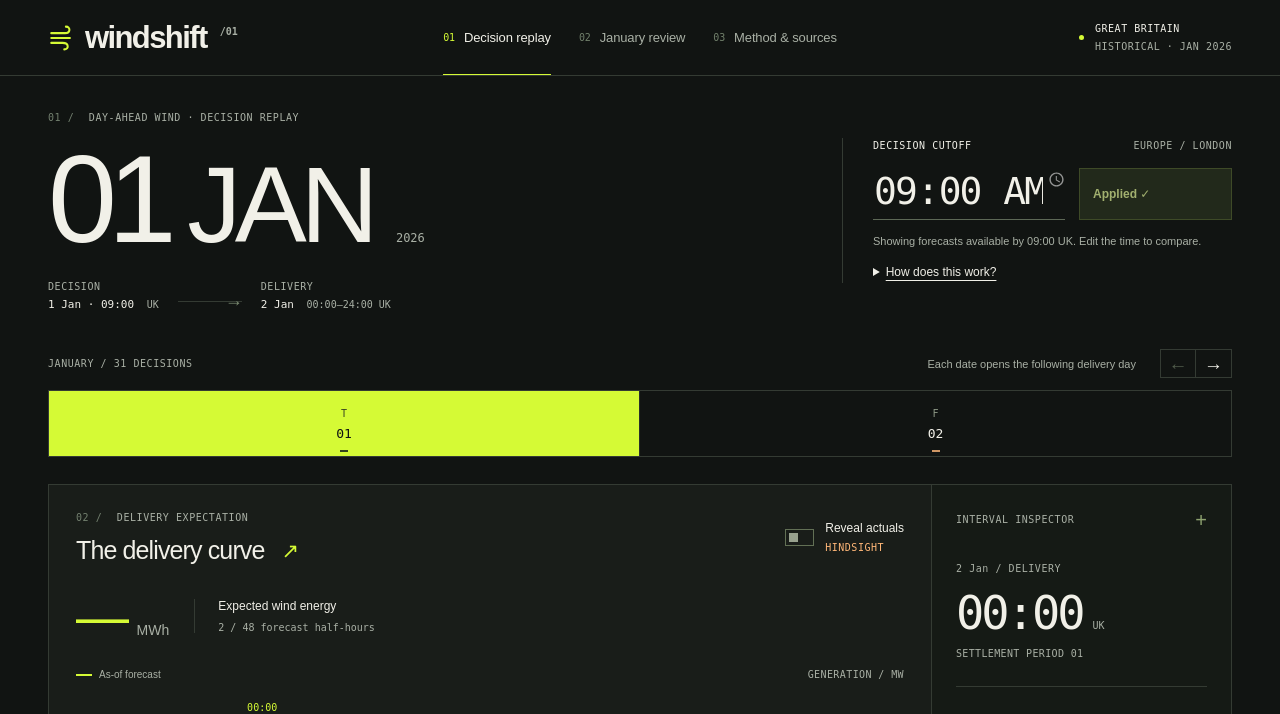
decision replay › distinguishes absolute error magnitude from directional bias in the daily review
The image size is (1280, 714).
Expected: the heading "The delivery curve ↗" is shown, [76,537,298,565]
Click the button "02 January review".
click(632, 38)  # box [579,0,685,75]
(page scrolled)
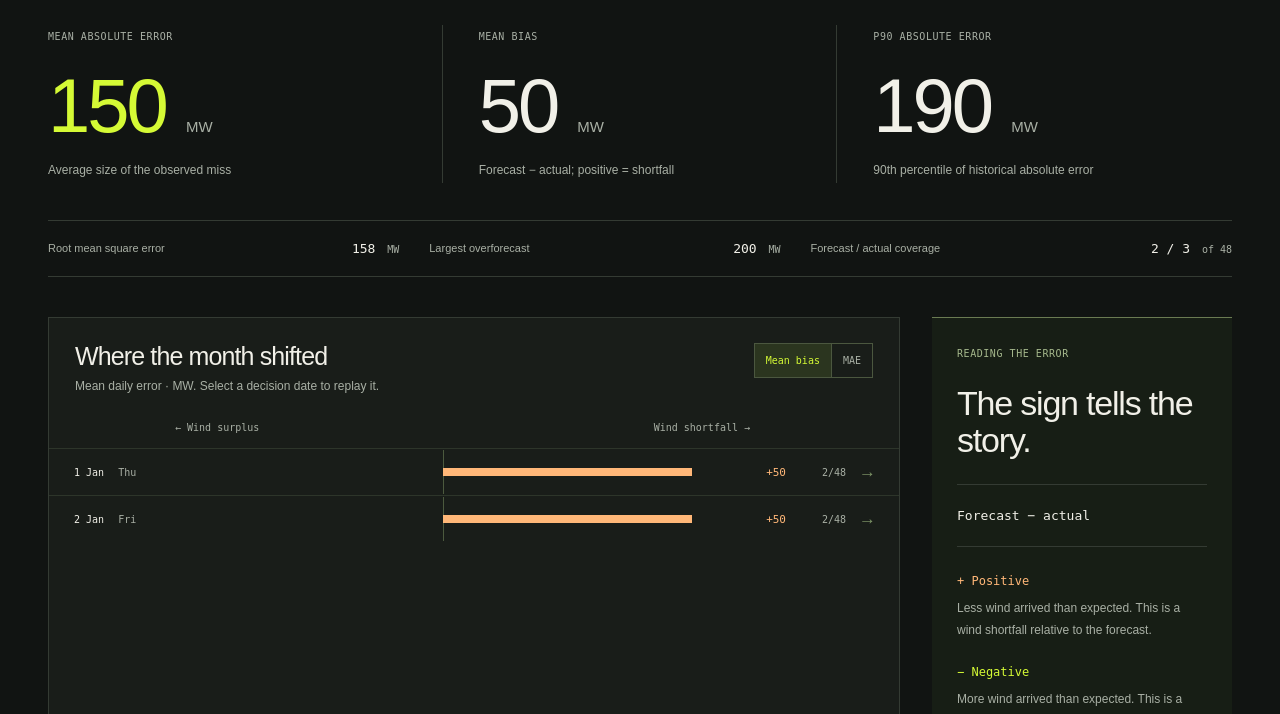
Click the button "MAE".
click(851, 360)  # box [831,344,872,377]
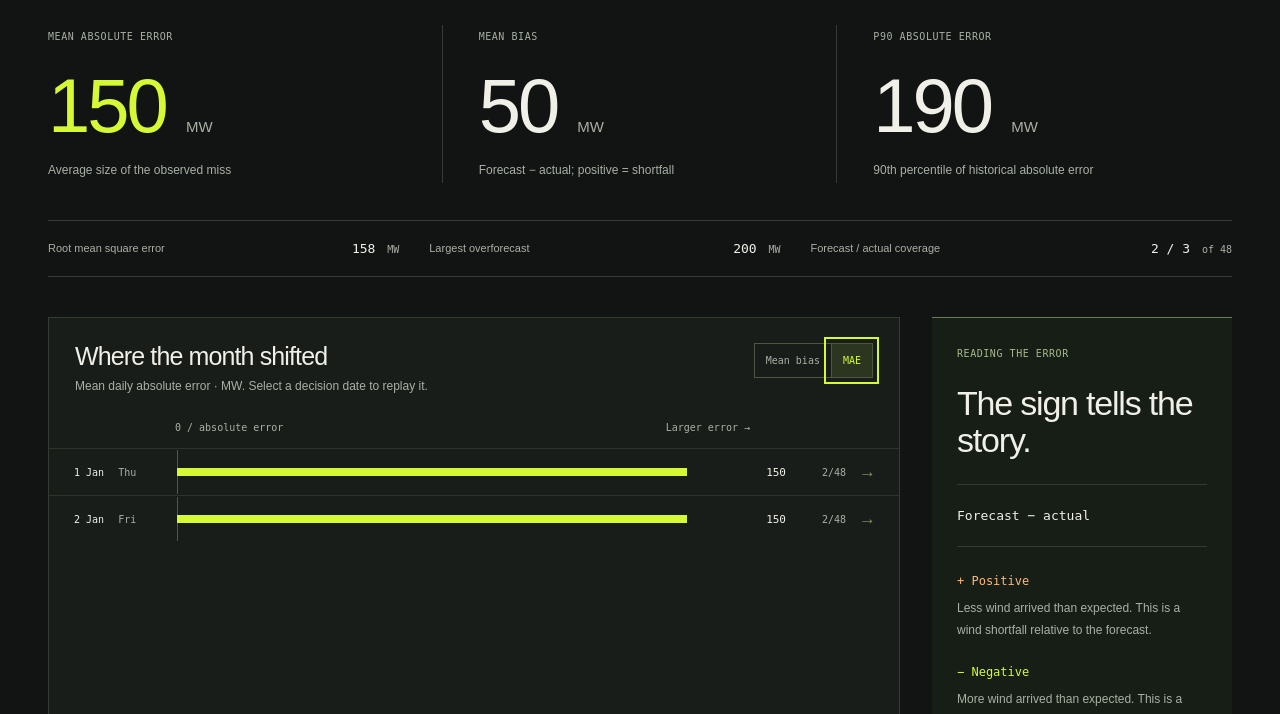
Expected: the text "Larger error →" is shown, [666,422,750,433]
Expected: the text "Wind shortfall →" is gone
Expected: the button with aria-label "Replay 1 Jan. MAE 150 megawatts" is shown, [49,448,899,495]
